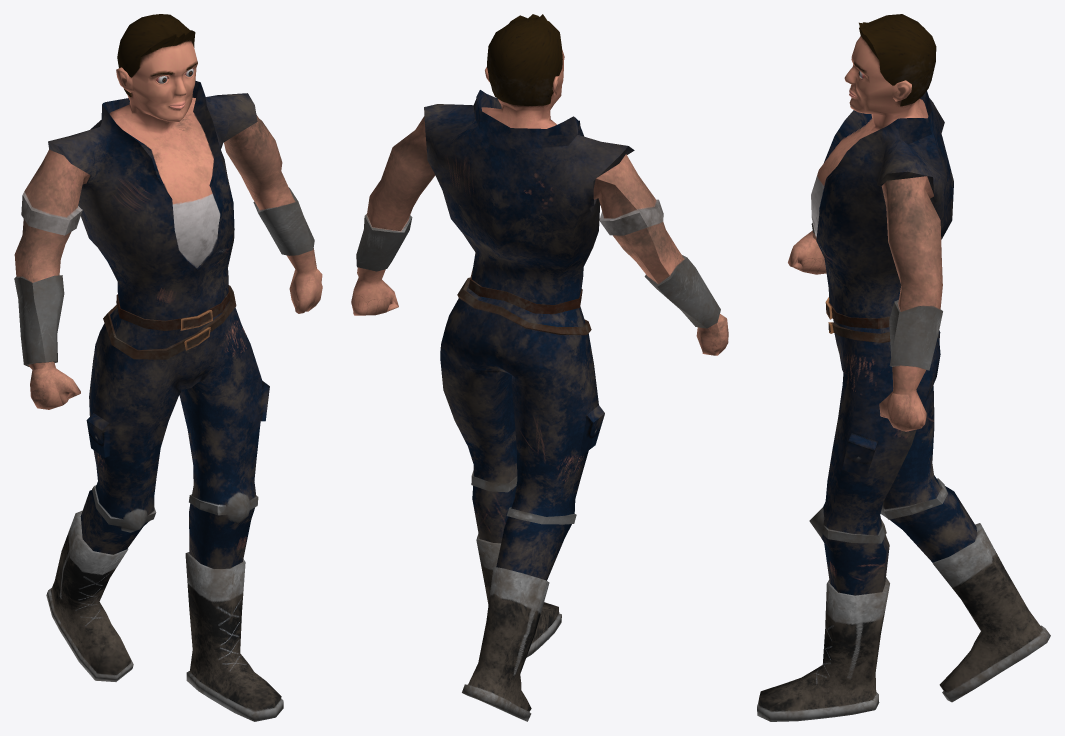
The model's file is Anim_andar_jugador.0035.obj.
The picture shows the model from 3 angles, left to right: view 1: azimuth 30°, elevation 25°; view 2: azimuth 150°, elevation 25°; view 3: azimuth 270°, elevation 25°; orthographic projection. The views are drawn at different scales.
Parts seen in each view (by area): view 1: Anim_andar_jugador; view 2: Anim_andar_jugador; view 3: Anim_andar_jugador.
Part boxes in pixels (box(x1,y1,x2,y2)): Anim_andar_jugador: box(14, 14, 322, 721); Anim_andar_jugador: box(351, 14, 728, 721); Anim_andar_jugador: box(757, 14, 1050, 721).
Bounding box in the file's own units: 5.05 × 9.82 × 3.8.
Materials: 2 (2 with a texture image).
